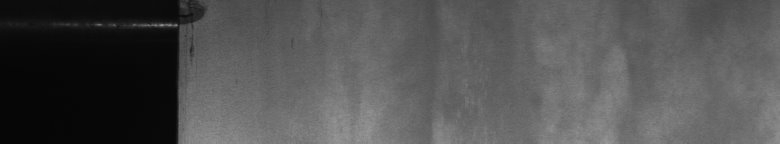hb: (188, 4, 213, 61)
